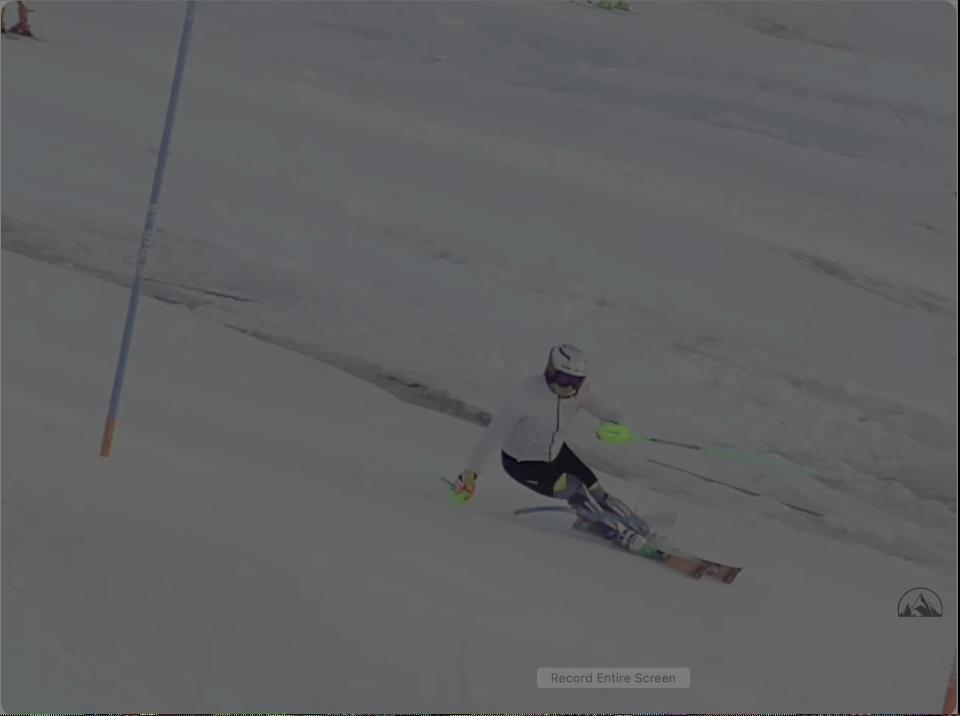gate: (93, 10, 231, 480)
